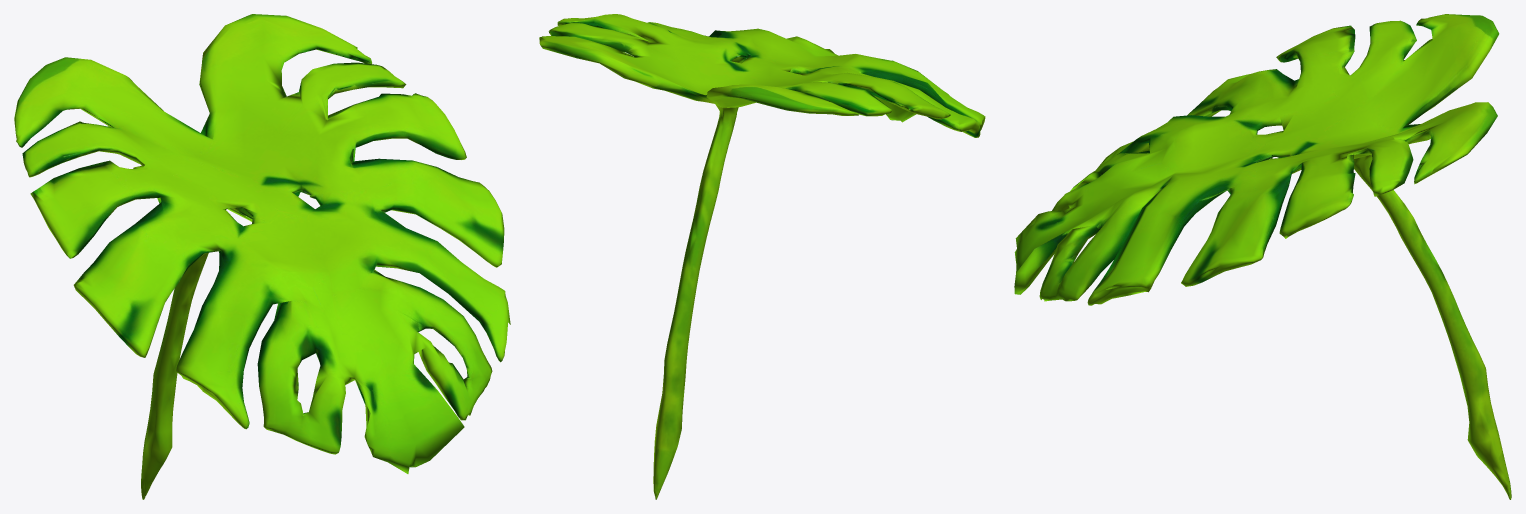
File: mon_neon_lime_v1.glb
The picture shows the model from 3 angles, left to right: view 1: azimuth 30°, elevation 25°; view 2: azimuth 150°, elevation 25°; view 3: azimuth 270°, elevation 25°; orthographic projection. The views are drawn at different scales.
Bounding box in the file's own units: 1.76 × 1.92 × 2.
Materials: 1 (1 with a texture image).
